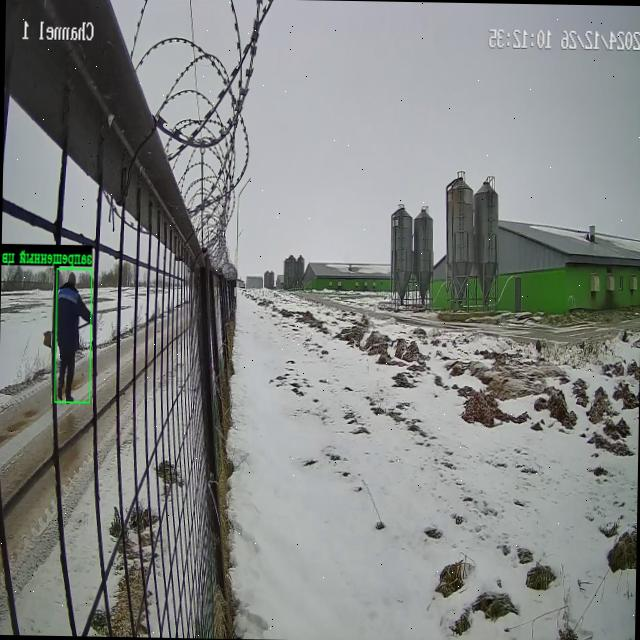Person: (57, 273, 90, 400)
